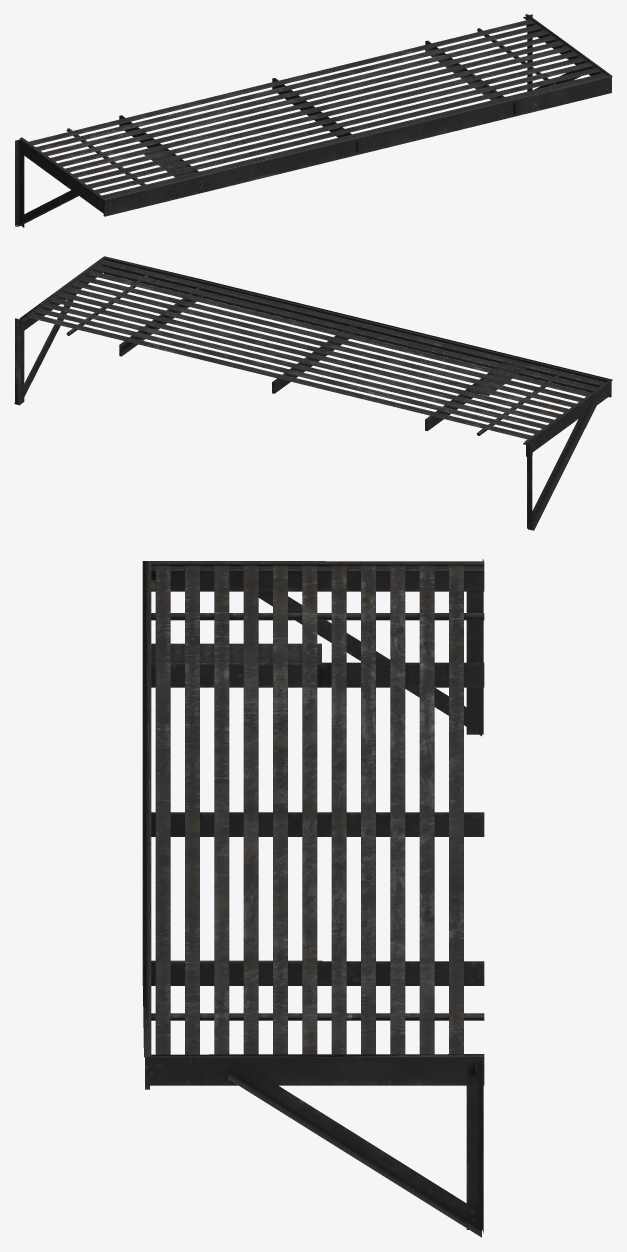
File: modular-fire-escape-platform-bottom.glb
The picture shows the model from 3 angles, top to bottom: view 1: azimuth 30°, elevation 25°; view 2: azimuth 150°, elevation 25°; view 3: azimuth 270°, elevation 25°; orthographic projection. The views are drawn at different scales.
Parts seen in each view (by area): view 1: modular_fire_escape_platform_bottom; view 2: modular_fire_escape_platform_bottom; view 3: modular_fire_escape_platform_bottom.
Part boxes in pixels (<box>): modular_fire_escape_platform_bottom: <box>15,14,612,227</box>; modular_fire_escape_platform_bottom: <box>14,256,612,530</box>; modular_fire_escape_platform_bottom: <box>142,559,484,1237</box>.
Bounding box in the file's own units: 4.79 × 0.7723 × 1.36.
1 material, 1 textured.
